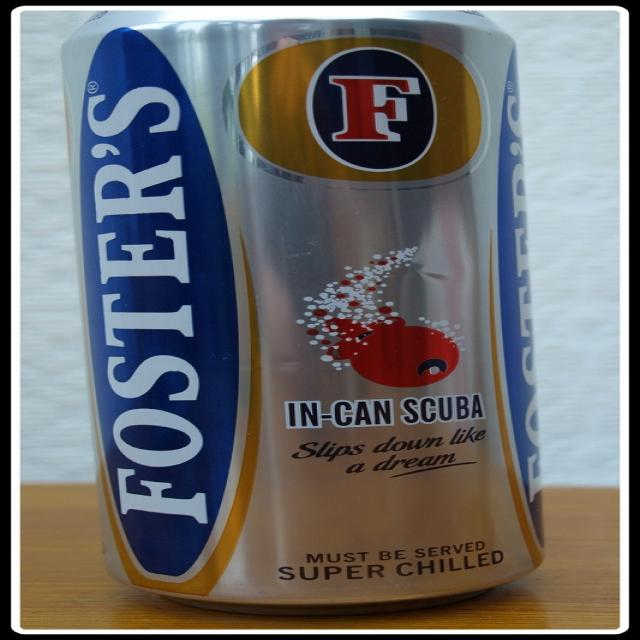fosters: (227, 35, 498, 187)
